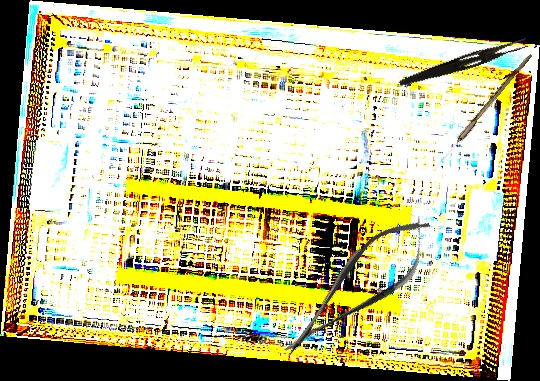Dressing Forceps: (397, 33, 530, 93)
Micro Scissor: (265, 202, 449, 373)
Surgical Spoon: (431, 51, 533, 174)
